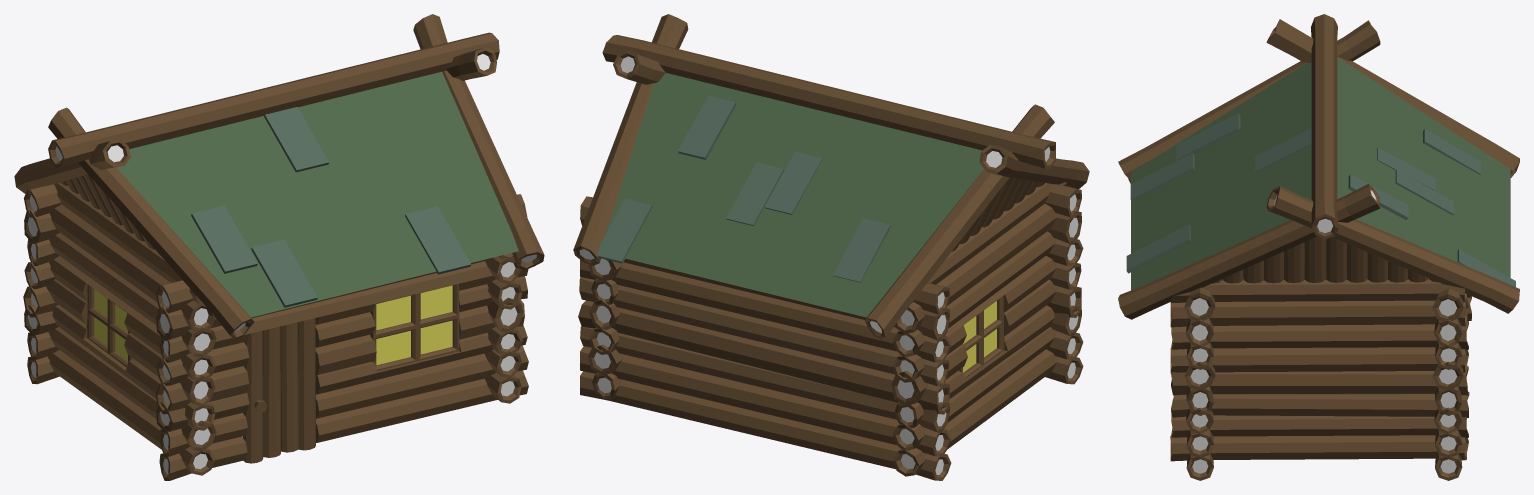
The model's file is SM_LogCabin_01.fbx.
3 views of the same model, side by side, from view 1: azimuth 30°, elevation 25°; view 2: azimuth 150°, elevation 25°; view 3: azimuth 270°, elevation 25° (orthographic). The views are drawn at different scales.
Parts seen in each view (by area): view 1: SM_LogCabin_01, SM_LogCabin_01_Window, SM_LogCabin_01.001, SM_LogCabin_01.002; view 2: SM_LogCabin_01, SM_LogCabin_01.002, SM_LogCabin_01_Window; view 3: SM_LogCabin_01.
Boxes of the visible parts, box(x1,y1,x2,y2) form: SM_LogCabin_01: box(14, 14, 544, 480); SM_LogCabin_01_Window: box(94, 285, 452, 365); SM_LogCabin_01.001: box(370, 284, 459, 370); SM_LogCabin_01.002: box(86, 284, 132, 367); SM_LogCabin_01: box(573, 14, 1089, 480); SM_LogCabin_01.002: box(958, 296, 1004, 378); SM_LogCabin_01_Window: box(963, 301, 996, 372); SM_LogCabin_01: box(1118, 14, 1519, 480).
Size of the model in its own units: 578 by 393 by 486.
